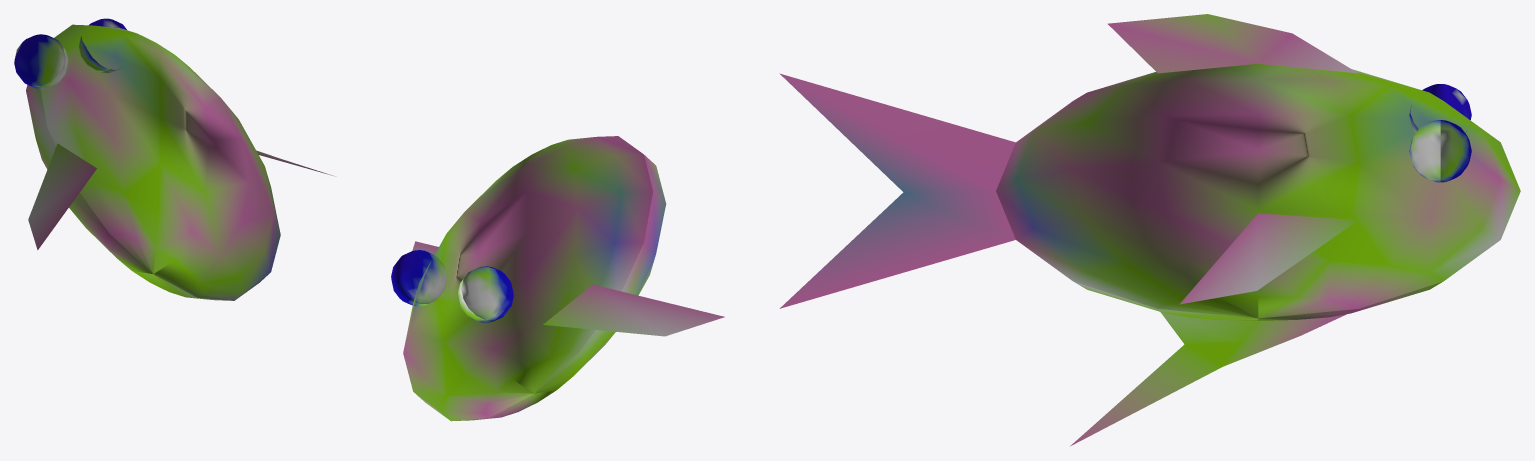
The model's file is wealth.glb.
3 views of the same model, side by side, from view 1: azimuth 30°, elevation 25°; view 2: azimuth 150°, elevation 25°; view 3: azimuth 270°, elevation 25° (orthographic). The views are drawn at different scales.
Parts seen in each view (by area): view 1: Wealth; view 2: Wealth; view 3: Wealth.
Part boxes in pixels (x1,y1,x2,y2): Wealth: [14, 18, 334, 300]; Wealth: [391, 136, 724, 421]; Wealth: [779, 14, 1520, 446].
Bounding box in the file's own units: 1.13 × 1.36 × 2.12.
